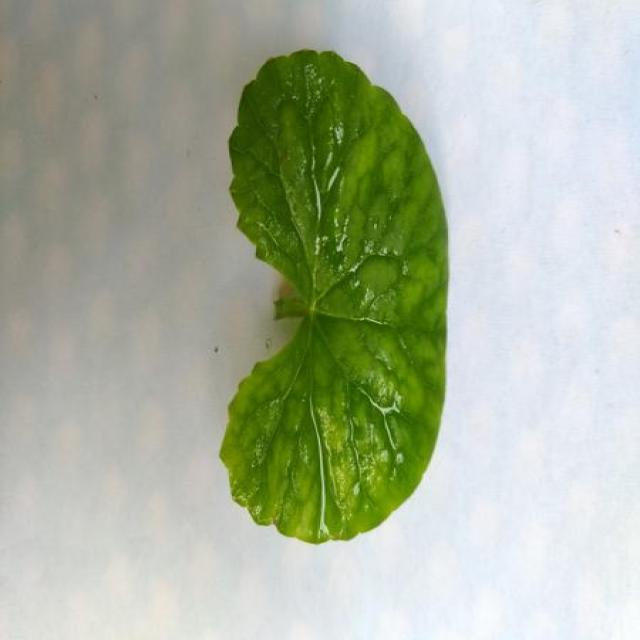defectedbhrami: (220, 51, 447, 542)
